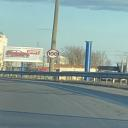speed_limit_100: (44, 48, 62, 60)
